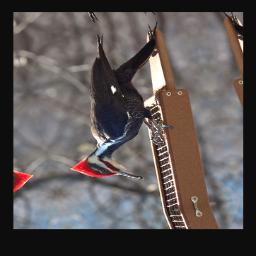Woodpecker: (32, 21, 201, 192)
